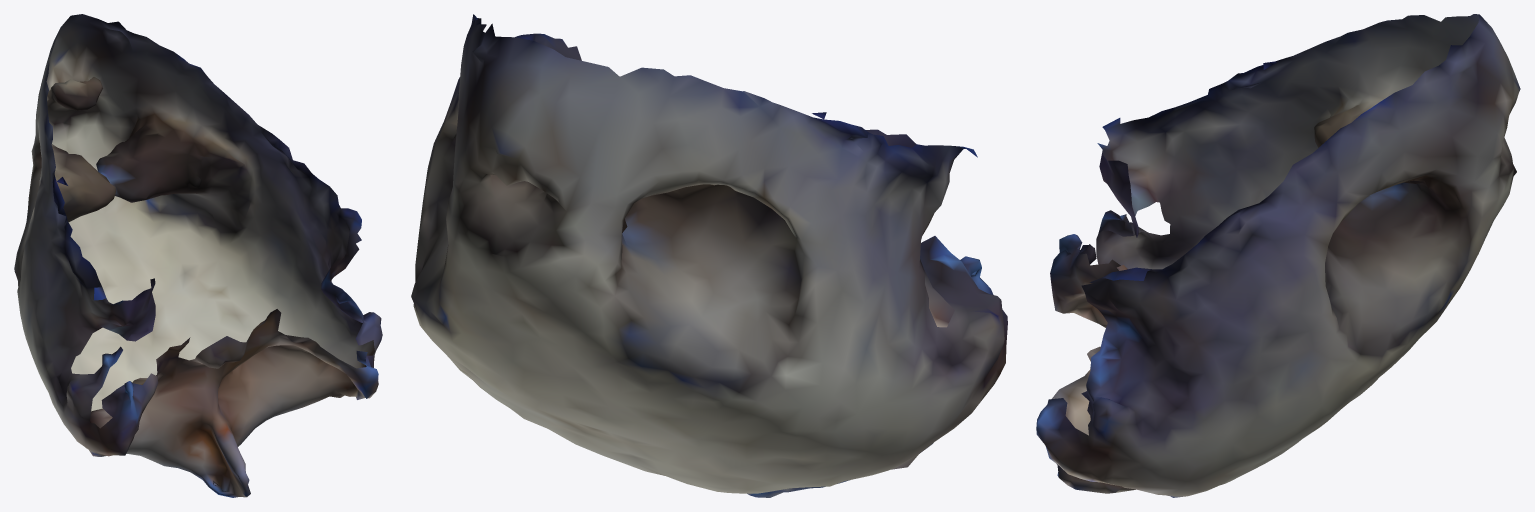
The model's file is turtle_lp.obj.
The picture shows the model from 3 angles, left to right: view 1: azimuth 30°, elevation 25°; view 2: azimuth 150°, elevation 25°; view 3: azimuth 270°, elevation 25°; orthographic projection. The views are drawn at different scales.
Size of the model in its own units: 2.37 by 2.76 by 2.57.
